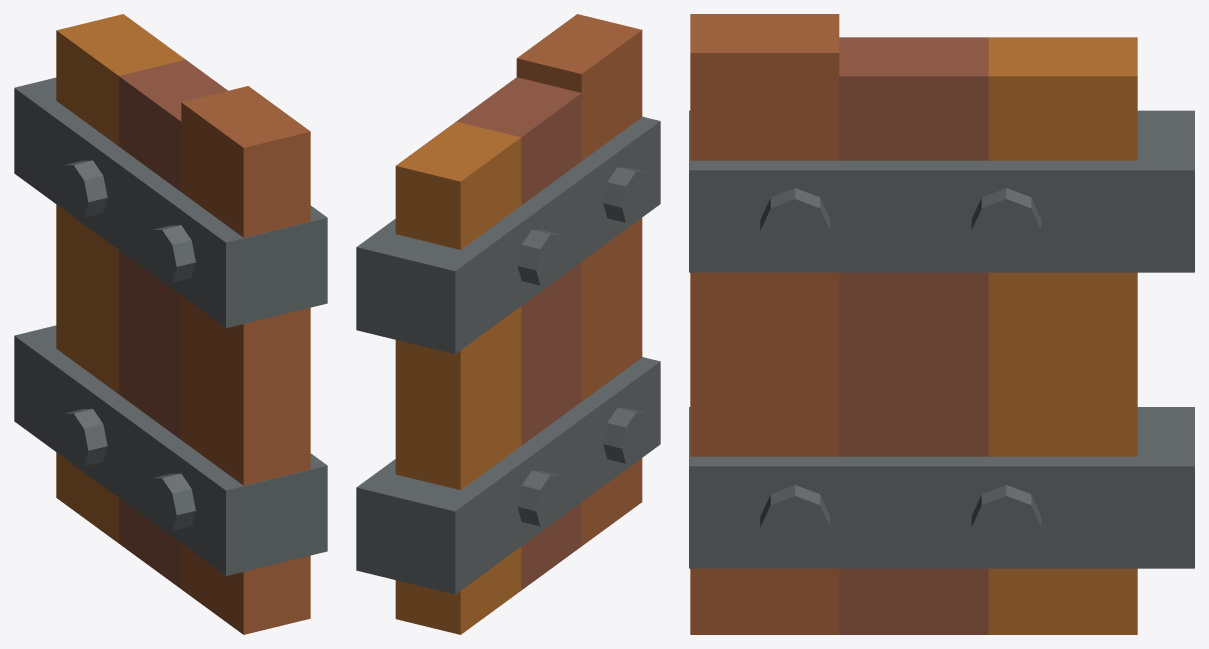
Rendered from gate_001.fbx.
3 renders of one model, left to right at view 1: azimuth 30°, elevation 25°; view 2: azimuth 150°, elevation 25°; view 3: azimuth 270°, elevation 25°, orthographic. The views are drawn at different scales.
Visible parts, largest first — view 1: gate.001; view 2: gate.001; view 3: gate.001.
Part boxes in pixels (x1,y1,x2,y2): gate.001: (14, 14, 327, 634); gate.001: (356, 14, 660, 634); gate.001: (689, 14, 1194, 634).
Size of the model in its own units: 43.18 by 143 by 113.
